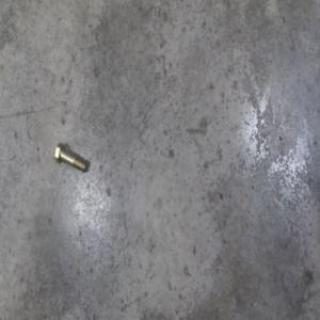Bolttrack_idkeyframe: (55, 140, 87, 174)
